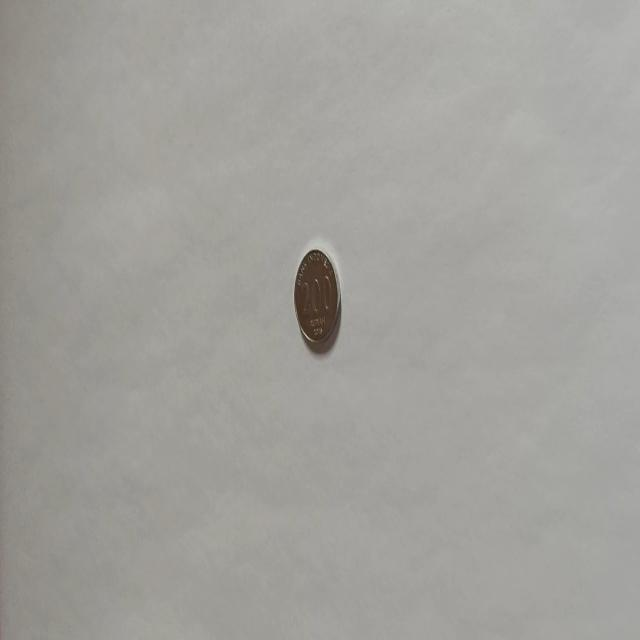dua ratus rupiah: (292, 246, 342, 346)
